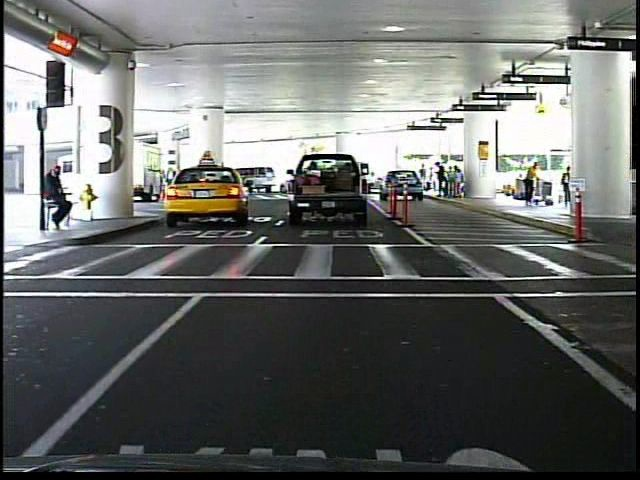person: (45, 160, 78, 231), (521, 158, 543, 210), (560, 160, 575, 211), (419, 161, 431, 196)
